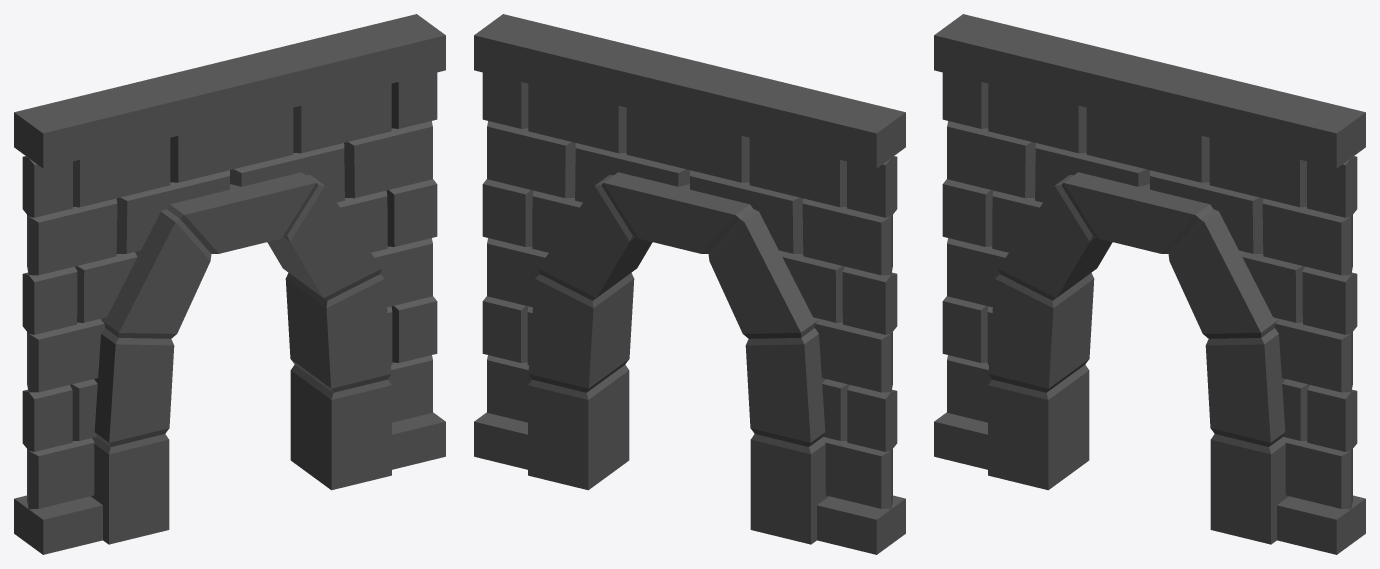
Rendered from Doorway_01.fbx.
The picture shows the model from 3 angles, left to right: view 1: azimuth 30°, elevation 25°; view 2: azimuth 150°, elevation 25°; view 3: azimuth 330°, elevation 25°; orthographic projection.
Visible parts, largest first — view 1: Doorway; view 2: Doorway; view 3: Doorway.
Part boxes in pixels (box(x1,y1,x2,y2)): Doorway: box(14, 14, 445, 554); Doorway: box(474, 14, 905, 554); Doorway: box(934, 14, 1365, 554).
Bounding box in the file's own units: 400 × 400 × 70.13.
